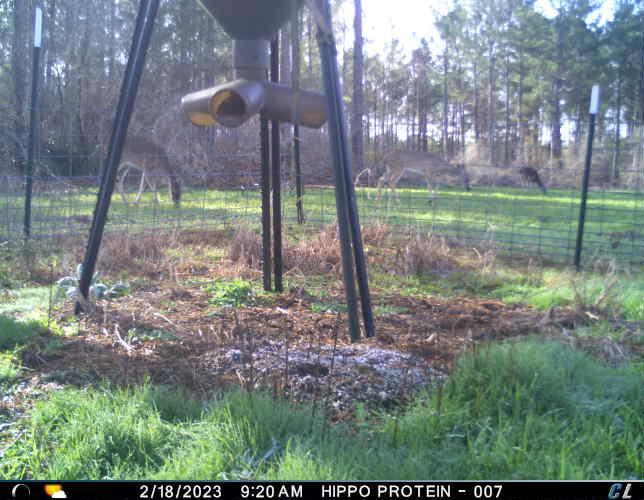Deer: (103, 129, 184, 209), (370, 149, 469, 207), (518, 161, 552, 194)
